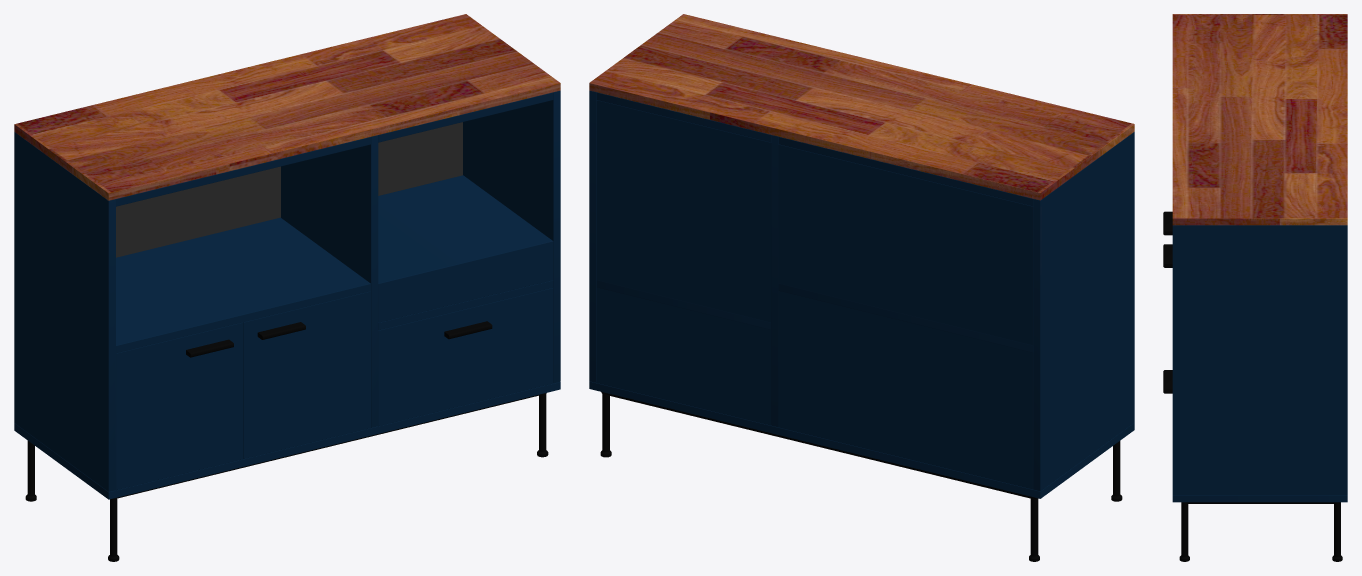
The model's file is MEGA_PACK_CABINET__cabinet-133299_frame_countyoffice.glb.
3 views of the same model, side by side, from view 1: azimuth 30°, elevation 25°; view 2: azimuth 150°, elevation 25°; view 3: azimuth 270°, elevation 25° (orthographic). The views are drawn at different scales.
Visible parts, largest first — view 1: cabinet-133299_frame_countyoffice; view 2: cabinet-133299_frame_countyoffice; view 3: cabinet-133299_frame_countyoffice.
Part boxes in pixels (bbox=[...]): cabinet-133299_frame_countyoffice: bbox=[14, 14, 560, 561]; cabinet-133299_frame_countyoffice: bbox=[589, 14, 1134, 561]; cabinet-133299_frame_countyoffice: bbox=[1163, 14, 1347, 561].
Bounding box in the file's own units: 1.05 × 0.83 × 0.4.
1 material, 1 textured.
